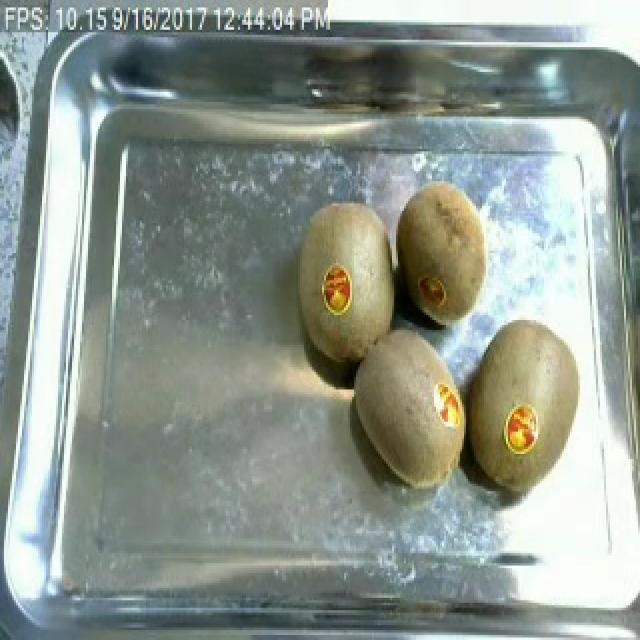Fruit: (342, 312, 478, 498), (284, 188, 402, 374), (392, 172, 498, 338)
